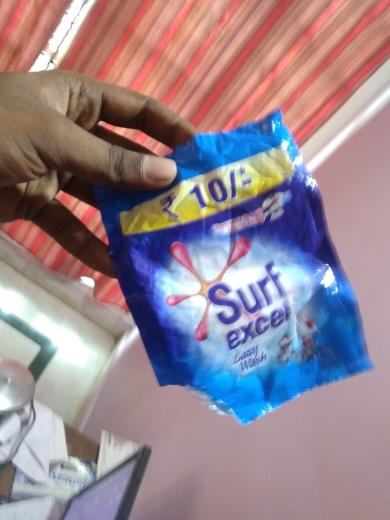surf: (88, 112, 373, 424)
